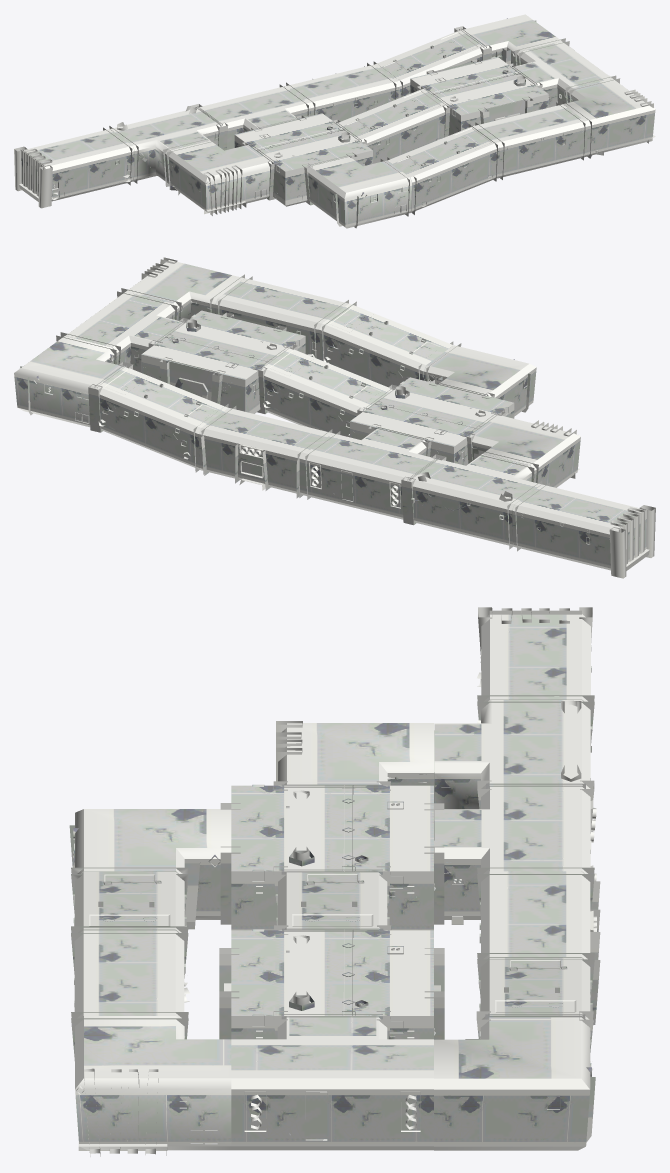
The model's file is Combined_Mesh_root_scene__3_4fde1142__zombies2_diffuse_11_814463c1_c1f257.obj.
The picture shows the model from 3 angles, top to bottom: view 1: azimuth 30°, elevation 25°; view 2: azimuth 150°, elevation 25°; view 3: azimuth 270°, elevation 25°; orthographic projection. The views are drawn at different scales.
Bounding box in the file's own units: 117 × 12.76 × 52.4.
230 materials, 230 textured.
